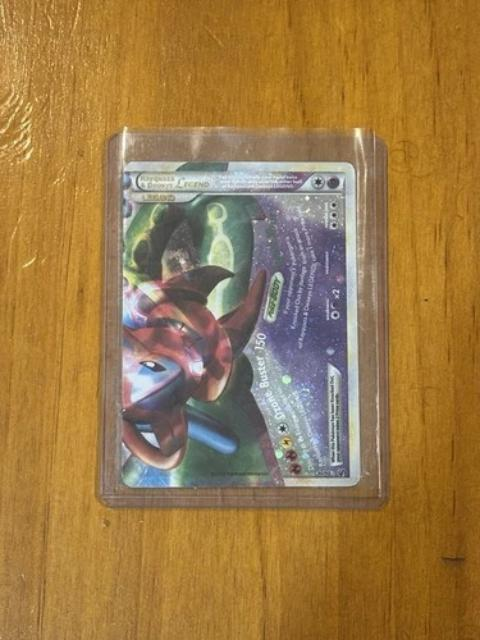Card: (116, 158, 365, 491)
Name: (134, 172, 216, 193)
